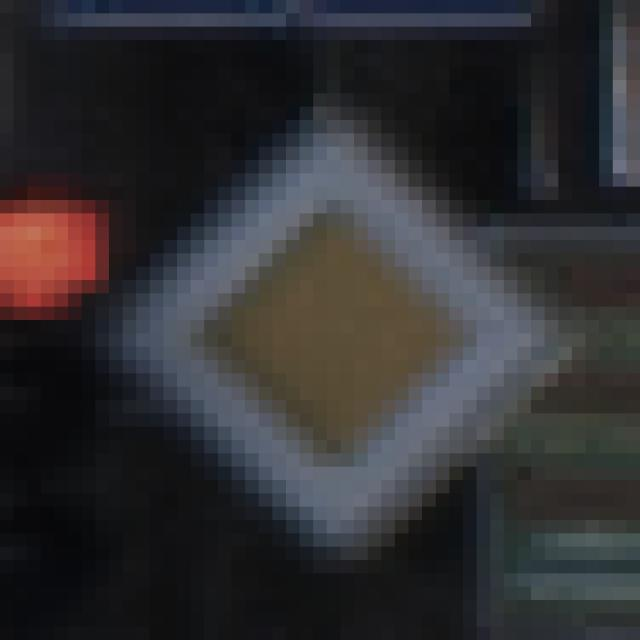Main Road: (83, 81, 573, 574)
